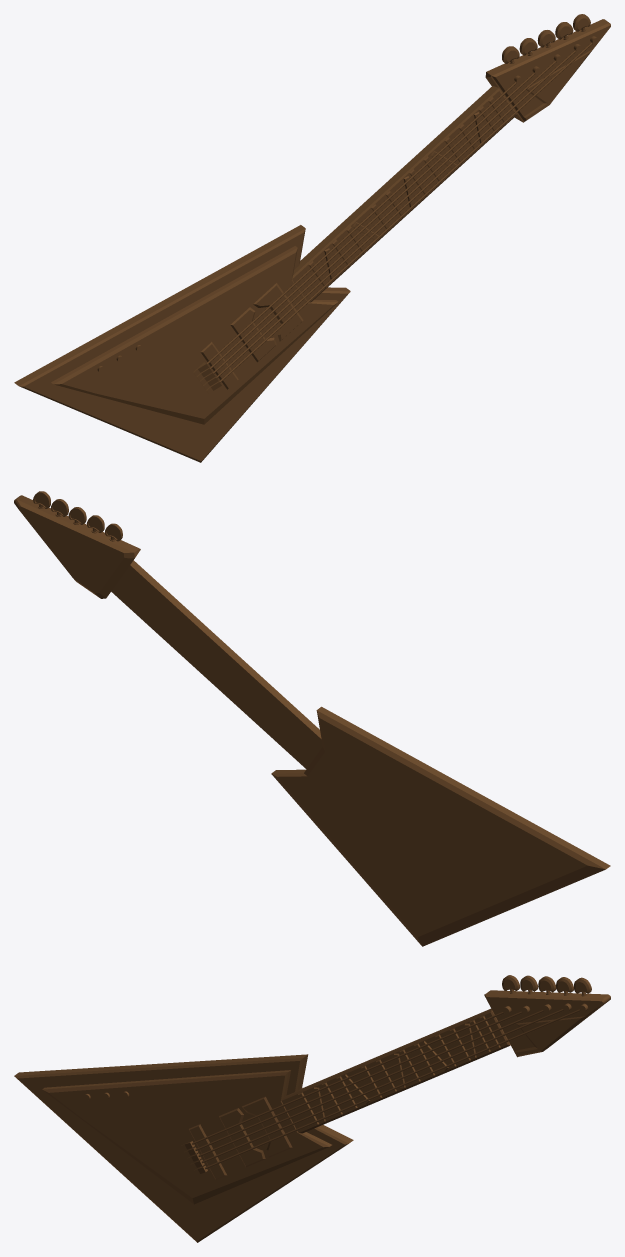
Rendered from Bonnie Guitar Beta.fbx.
3 views of the same model, one above another, from view 1: azimuth 30°, elevation 25°; view 2: azimuth 150°, elevation 25°; view 3: azimuth 330°, elevation 25° (orthographic).
Visible parts, largest first — view 1: Beta Guitar; view 2: Beta Guitar; view 3: Beta Guitar.
Boxes of the visible parts, bbox=[...] form: Beta Guitar: bbox=[14, 14, 610, 462]; Beta Guitar: bbox=[14, 491, 610, 946]; Beta Guitar: bbox=[14, 975, 610, 1242].
Bounding box in the file's own units: 114 × 65.61 × 4.28.
